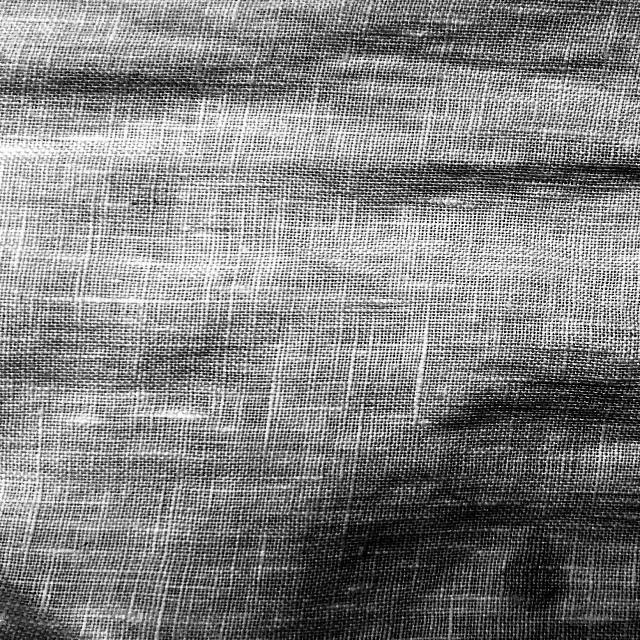Color_defect: (497, 519, 581, 618), (105, 144, 190, 237)
